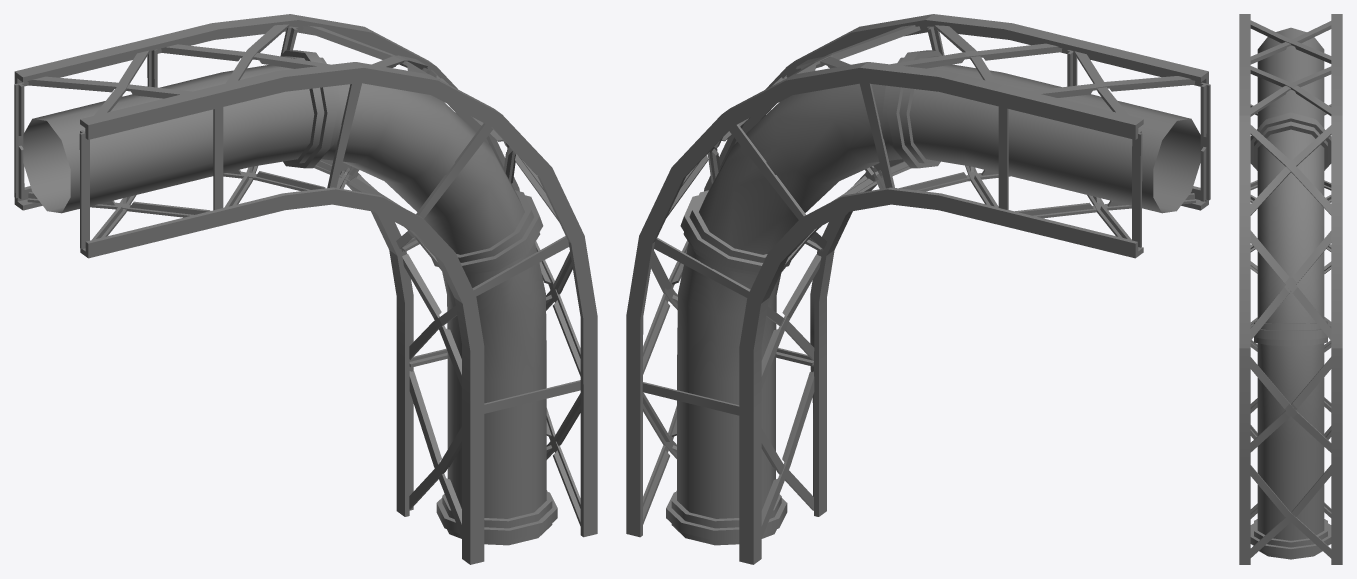
Rendered from tesla_props_pipes_01_cage_corner.dae.
3 renders of one model, left to right at view 1: azimuth 30°, elevation 25°; view 2: azimuth 150°, elevation 25°; view 3: azimuth 270°, elevation 25°, orthographic. The views are drawn at different scales.
Visible parts, largest first — view 1: tesla_structure_piping_corner_01; view 2: tesla_structure_piping_corner_01; view 3: tesla_structure_piping_corner_01.
Part boxes in pixels (x1=…): tesla_structure_piping_corner_01: x1=14, y1=14, x2=597, y2=564; tesla_structure_piping_corner_01: x1=626, y1=14, x2=1210, y2=564; tesla_structure_piping_corner_01: x1=1239, y1=14, x2=1342, y2=564.
Size of what is drawn, in the model's own units: 6.06 by 6 by 1.5.
